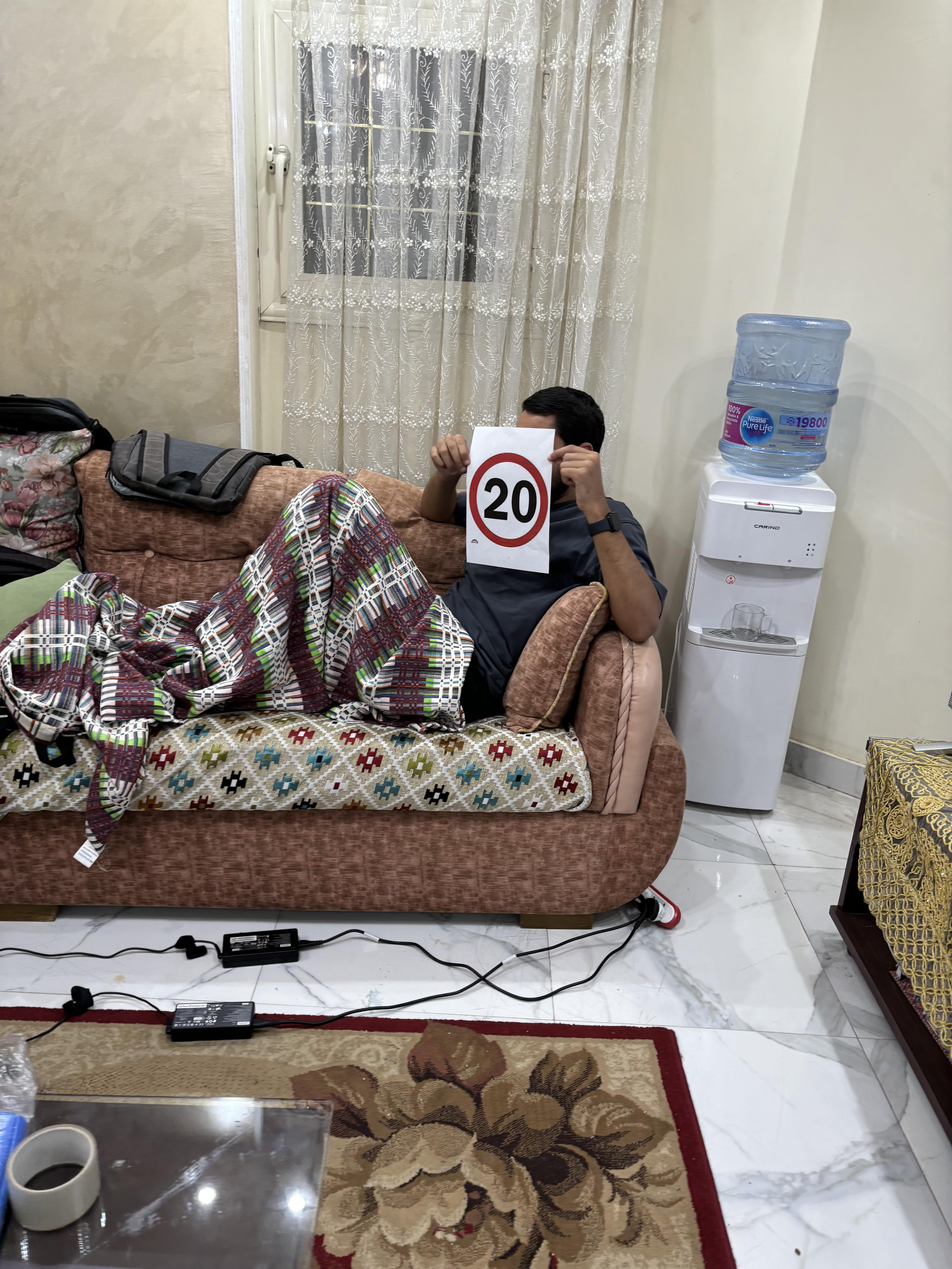20-Speed: (465, 443, 552, 554)
